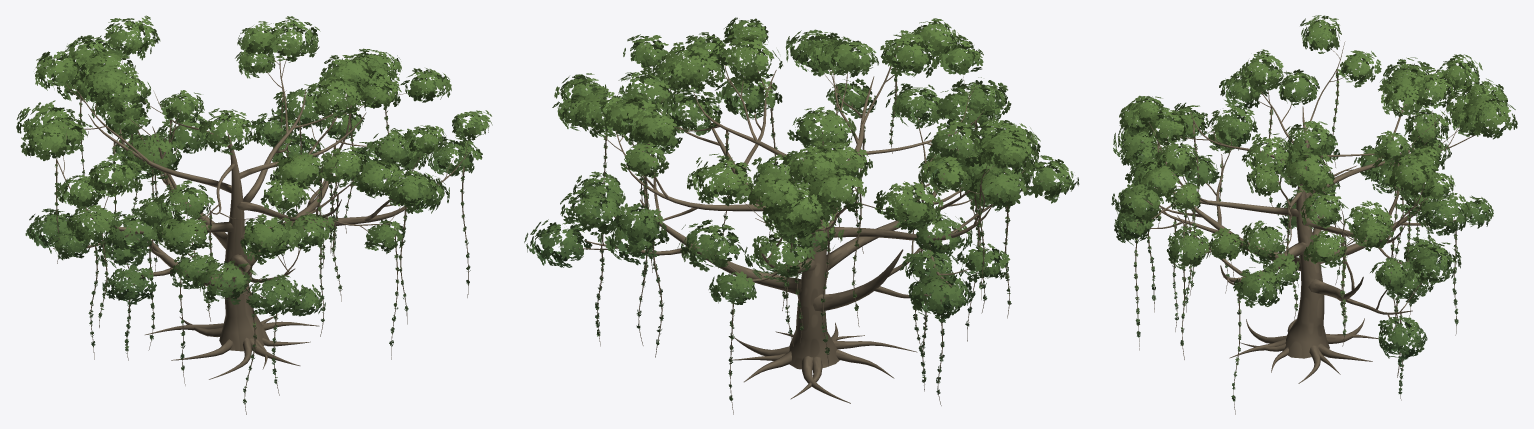
The model's file is tree.gltf.
The picture shows the model from 3 angles, left to right: view 1: azimuth 30°, elevation 25°; view 2: azimuth 150°, elevation 25°; view 3: azimuth 270°, elevation 25°; orthographic projection. The views are drawn at different scales.
Parts seen in each view (by area): view 1: Tree_LOD0; view 2: Tree_LOD0; view 3: Tree_LOD0.
Part boxes in pixels (x1=…): Tree_LOD0: x1=16, y1=15, x2=492, y2=414; Tree_LOD0: x1=524, y1=17, x2=1079, y2=414; Tree_LOD0: x1=1111, y1=15, x2=1517, y2=414.
Bounding box in the file's own units: 36.46 × 21.35 × 31.66.
2 materials, 2 textured.
